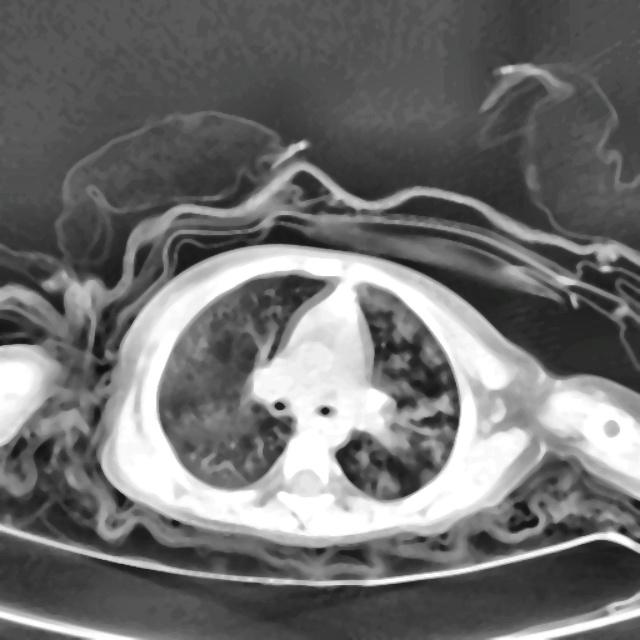covid: (93, 241, 636, 556)
